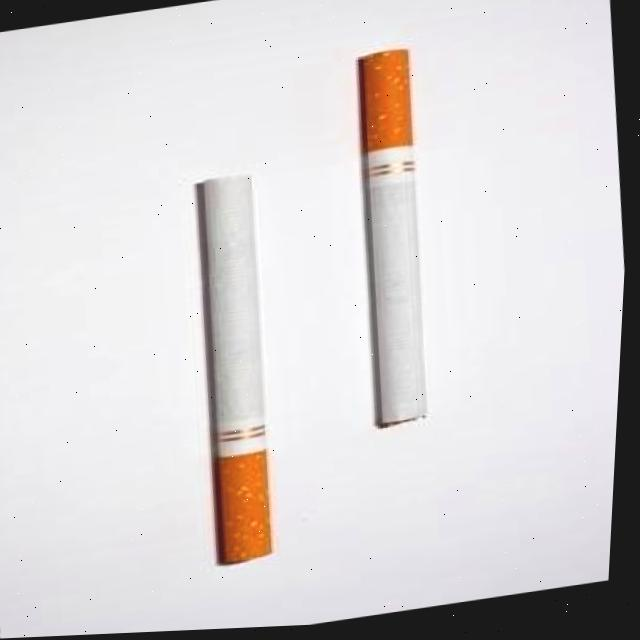cigarette: (190, 174, 272, 567), (352, 51, 426, 430)
